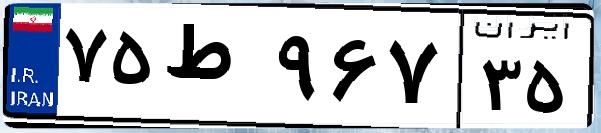3: (475, 38, 525, 113)
5: (525, 38, 570, 115), (110, 28, 158, 98)
6: (330, 28, 385, 110)
7: (385, 28, 445, 110), (57, 26, 110, 100)
9: (270, 28, 330, 110)
ط: (158, 20, 270, 120)
